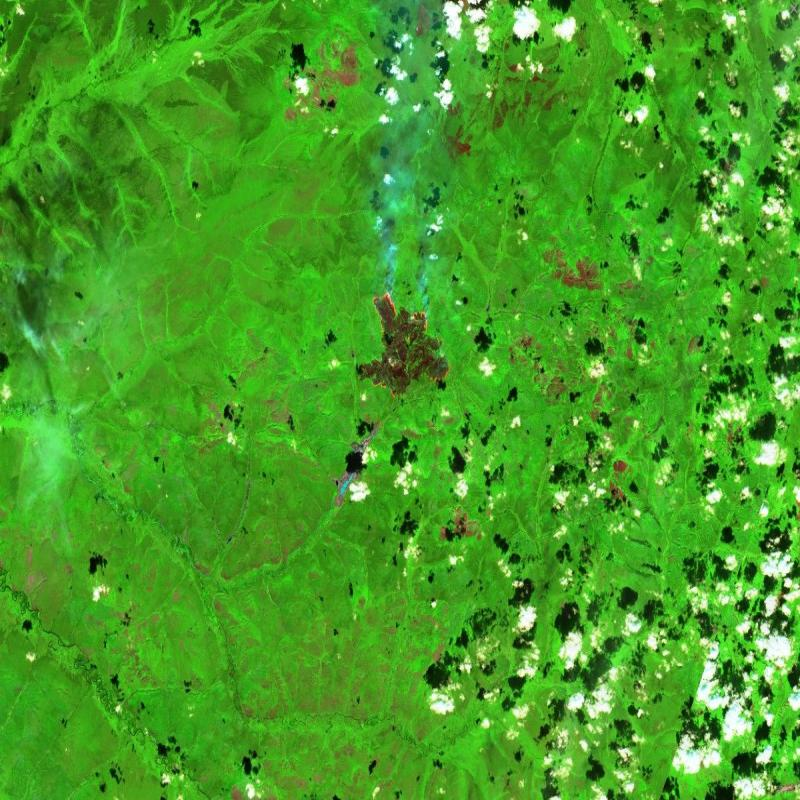fire: (360, 290, 458, 398)
